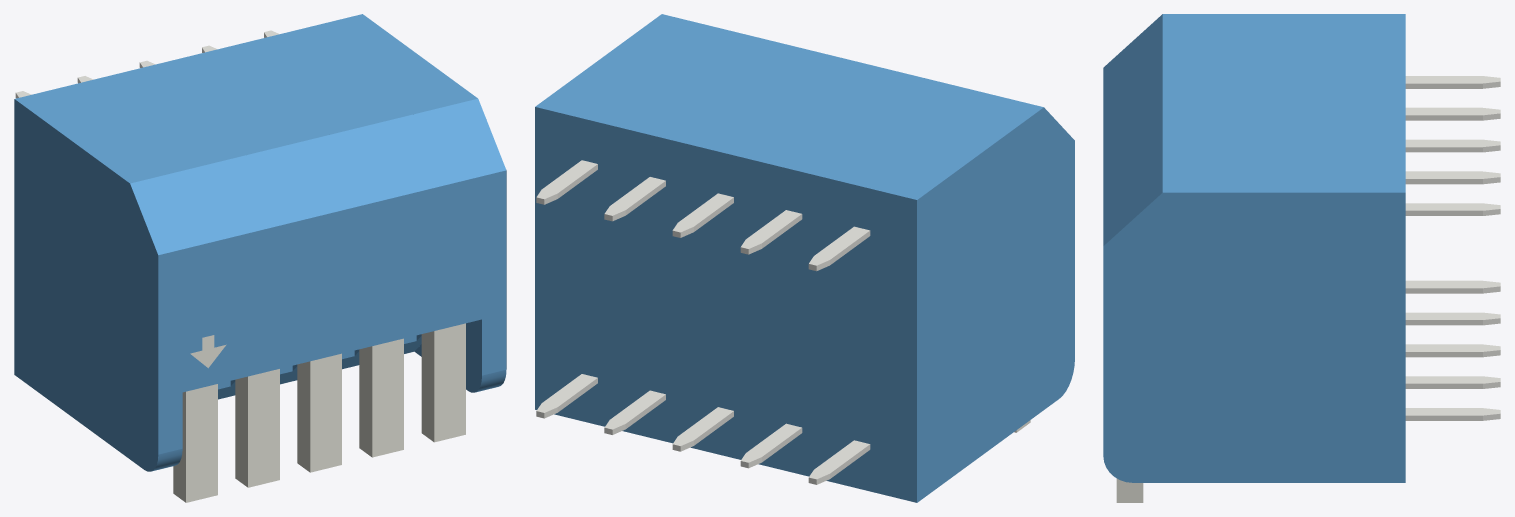
Rendered from SW_DIP_SPSTx05_Piano_10.8x14.26mm_W7.62mm_P2.54mm.glb.
3 renders of one model, left to right at view 1: azimuth 30°, elevation 25°; view 2: azimuth 150°, elevation 25°; view 3: azimuth 270°, elevation 25°, orthographic. The views are drawn at different scales.
Visible parts, largest first — view 1: Shape_IndexedFaceSet.001, Shape_IndexedFaceSet.005, Shape_IndexedFaceSet.008, Shape_IndexedFaceSet.003, Shape_IndexedFaceSet.057, Shape_IndexedFaceSet.060, Shape_IndexedFaceSet.067, Shape_IndexedFaceSet.070, Shape_IndexedFaceSet.077, Shape_IndexedFaceSet.078, Shape_IndexedFaceSet.059, Shape_IndexedFaceSet.069 (+5 smaller); view 2: Shape_IndexedFaceSet.006, Shape_IndexedFaceSet.005, Shape_IndexedFaceSet.008, Shape_IndexedFaceSet.051, Shape_IndexedFaceSet.031, Shape_IndexedFaceSet.037, Shape_IndexedFaceSet.023, Shape_IndexedFaceSet.027, Shape_IndexedFaceSet.041, Shape_IndexedFaceSet.020, Shape_IndexedFaceSet.043, Shape_IndexedFaceSet.047 (+1 smaller); view 3: Shape_IndexedFaceSet, Shape_IndexedFaceSet.005, Shape_IndexedFaceSet.003, Shape_IndexedFaceSet.023, Shape_IndexedFaceSet.027, Shape_IndexedFaceSet.051, Shape_IndexedFaceSet.020, Shape_IndexedFaceSet.031, Shape_IndexedFaceSet.037, Shape_IndexedFaceSet.041, Shape_IndexedFaceSet.043, Shape_IndexedFaceSet.047 (+12 smaller).
Boxes of the visible parts, x1,y1,x2,y2 form: Shape_IndexedFaceSet.001: (158,170,506,454); Shape_IndexedFaceSet.005: (15,14,477,183); Shape_IndexedFaceSet.008: (14,99,158,471); Shape_IndexedFaceSet.003: (130,98,505,255); Shape_IndexedFaceSet.057: (434,323,465,442); Shape_IndexedFaceSet.060: (186,384,217,502); Shape_IndexedFaceSet.067: (372,338,403,457); Shape_IndexedFaceSet.070: (248,369,279,487); Shape_IndexedFaceSet.077: (310,353,341,472); Shape_IndexedFaceSet.078: (297,361,310,472); Shape_IndexedFaceSet.059: (421,331,434,441); Shape_IndexedFaceSet.069: (359,346,372,457); Shape_IndexedFaceSet.006: (535,107,916,502); Shape_IndexedFaceSet.005: (535,14,1043,199); Shape_IndexedFaceSet.008: (917,107,1074,502); Shape_IndexedFaceSet.051: (809,440,869,479); Shape_IndexedFaceSet.031: (604,177,665,215); Shape_IndexedFaceSet.037: (604,390,665,429); Shape_IndexedFaceSet.023: (672,193,733,232); Shape_IndexedFaceSet.027: (741,210,801,248); Shape_IndexedFaceSet.041: (536,374,597,412); Shape_IndexedFaceSet.020: (673,407,733,445); Shape_IndexedFaceSet.043: (537,160,597,199); Shape_IndexedFaceSet.047: (809,226,869,265); Shape_IndexedFaceSet: (1103,192,1405,482); Shape_IndexedFaceSet.005: (1162,14,1405,192); Shape_IndexedFaceSet.003: (1103,14,1162,245); Shape_IndexedFaceSet.023: (1405,139,1500,147); Shape_IndexedFaceSet.027: (1405,107,1500,115); Shape_IndexedFaceSet.051: (1405,280,1500,288); Shape_IndexedFaceSet.020: (1405,344,1500,351); Shape_IndexedFaceSet.031: (1405,171,1500,178); Shape_IndexedFaceSet.037: (1405,376,1500,383); Shape_IndexedFaceSet.041: (1405,408,1500,415); Shape_IndexedFaceSet.043: (1405,203,1500,210); Shape_IndexedFaceSet.047: (1405,76,1500,83).
Size of the model in its own units: 5.61 by 4.8 by 5.28.
